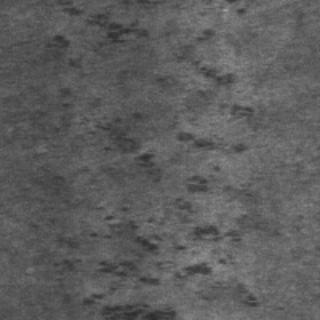rolled pit: (82, 173, 266, 315), (50, 2, 154, 168), (173, 0, 259, 152)
